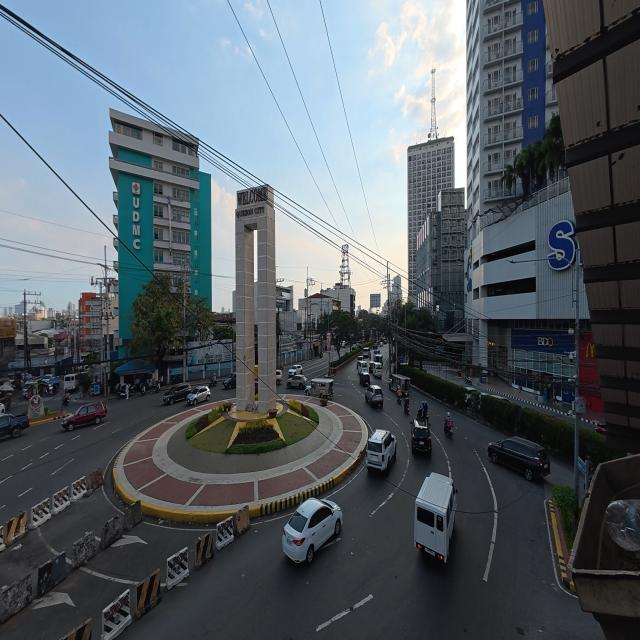Jeepneys: (305, 378, 333, 399), (390, 374, 410, 395)
car: (283, 498, 342, 563), (488, 437, 550, 480), (365, 429, 396, 470), (62, 402, 107, 430), (411, 418, 431, 455), (0, 414, 29, 438), (163, 383, 191, 404), (187, 386, 210, 405), (365, 385, 383, 408), (287, 375, 307, 389), (465, 387, 477, 408), (23, 382, 38, 398), (223, 373, 236, 389), (288, 365, 302, 378), (490, 394, 510, 403), (360, 372, 370, 387), (276, 370, 282, 385), (373, 348, 381, 359), (368, 361, 373, 374), (0, 403, 5, 414), (255, 380, 258, 394), (352, 345, 358, 350), (341, 341, 345, 347)
motorcycle: (130, 381, 146, 395), (444, 419, 452, 439), (417, 404, 428, 418), (149, 379, 160, 393), (117, 386, 126, 399), (404, 398, 409, 414), (62, 396, 70, 406), (209, 377, 217, 386), (465, 375, 472, 384), (397, 395, 402, 404)
vans: (415, 473, 457, 562), (63, 374, 78, 391), (358, 360, 368, 375), (374, 362, 382, 378), (363, 348, 369, 358)
